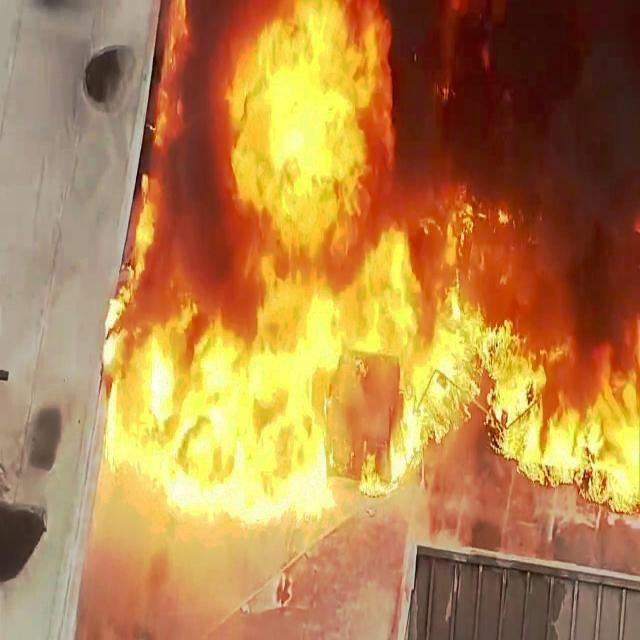Fire: (117, 1, 640, 513)
